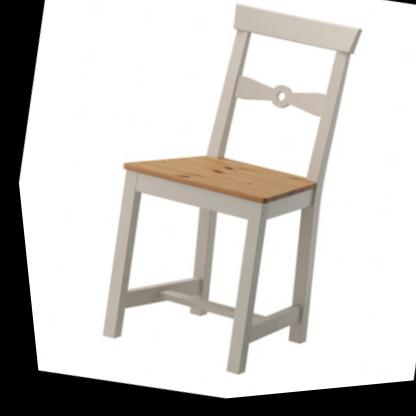Chair: (54, 0, 395, 409)
